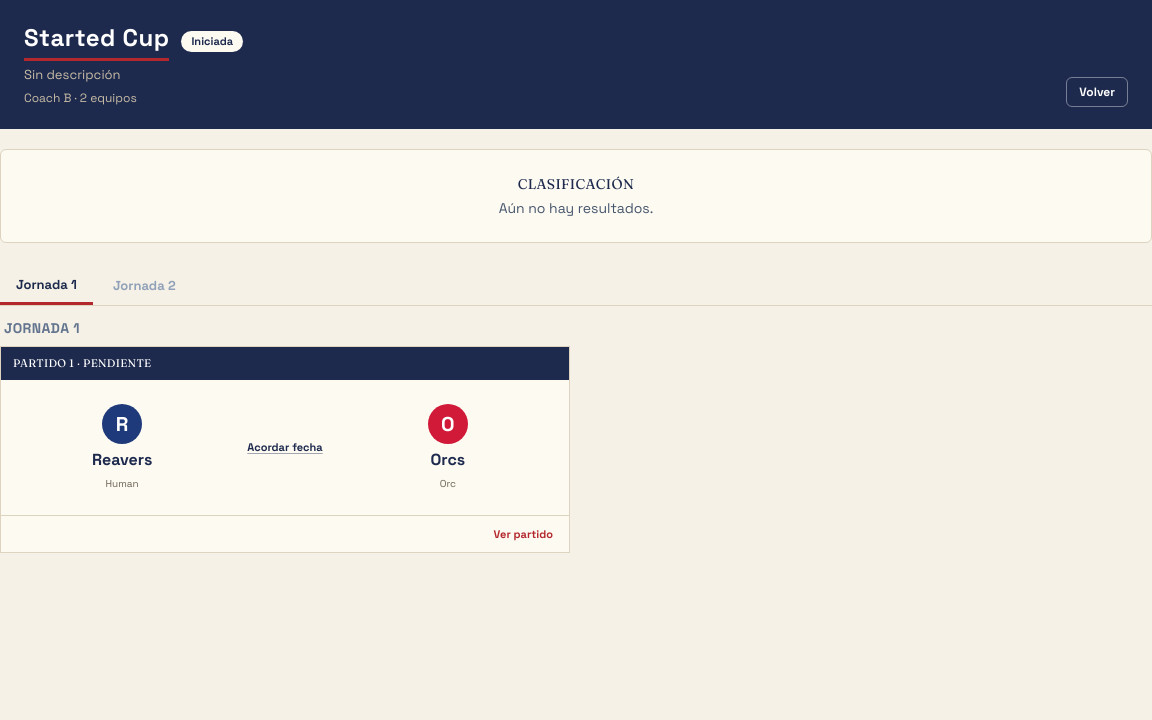
it: LeagueDetail — STARTED league › keeps the negotiation panel open and surfaces the error when proposing fails
Expected: the element named "Jornada 1" is shown, [0,346,570,553]
Click the button "Acordar fecha" at point(285, 447), box [239,435,331,459]
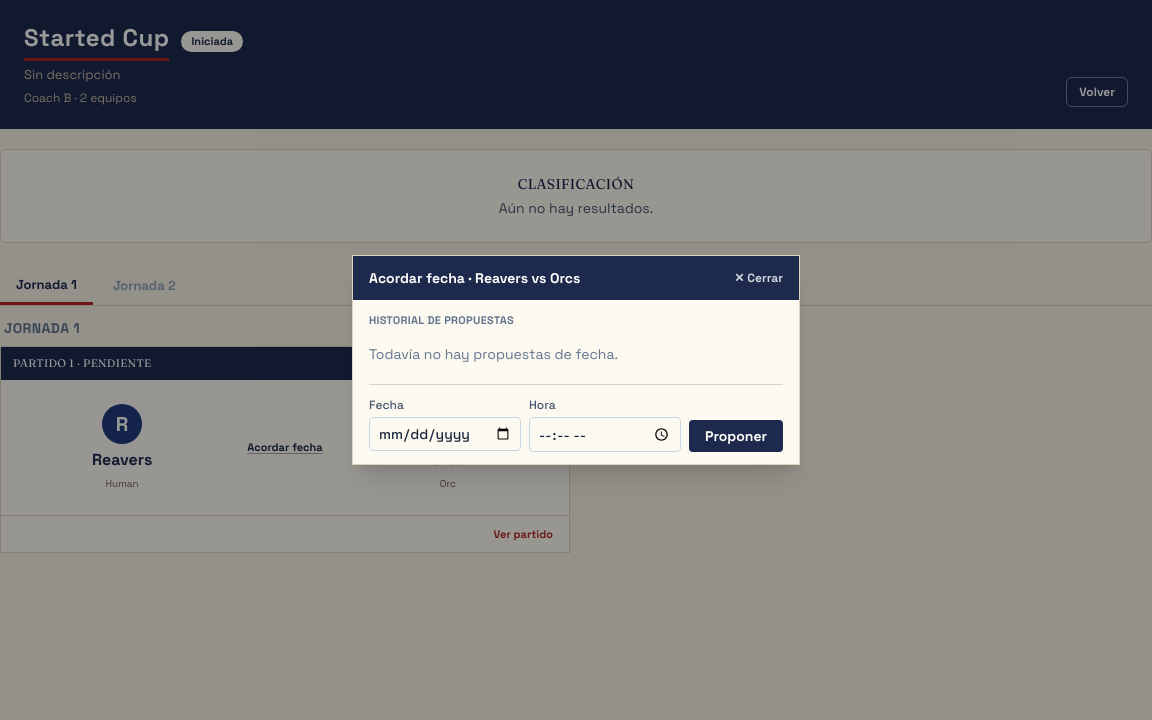
Type "2026-03-05" into the date field named "Fecha propuesta" at point(445, 434), box [369,417,521,451]
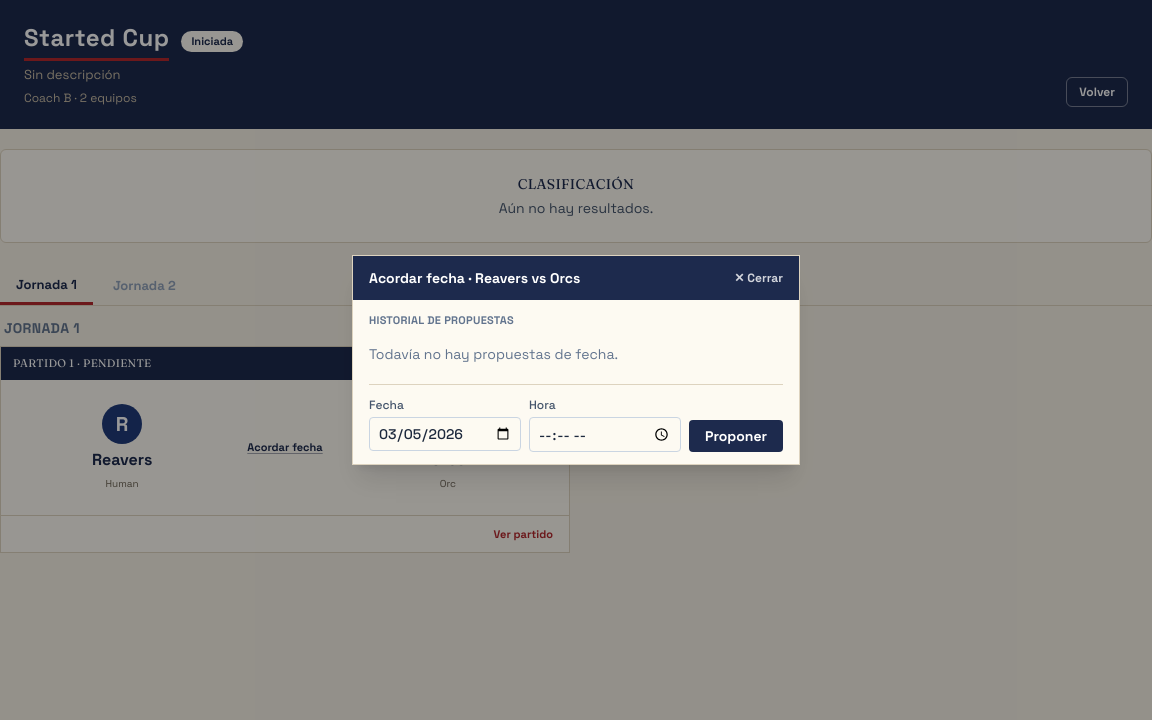
Type "19:00" into the time field named "Hora propuesta" at point(605, 435), box [529,417,681,452]
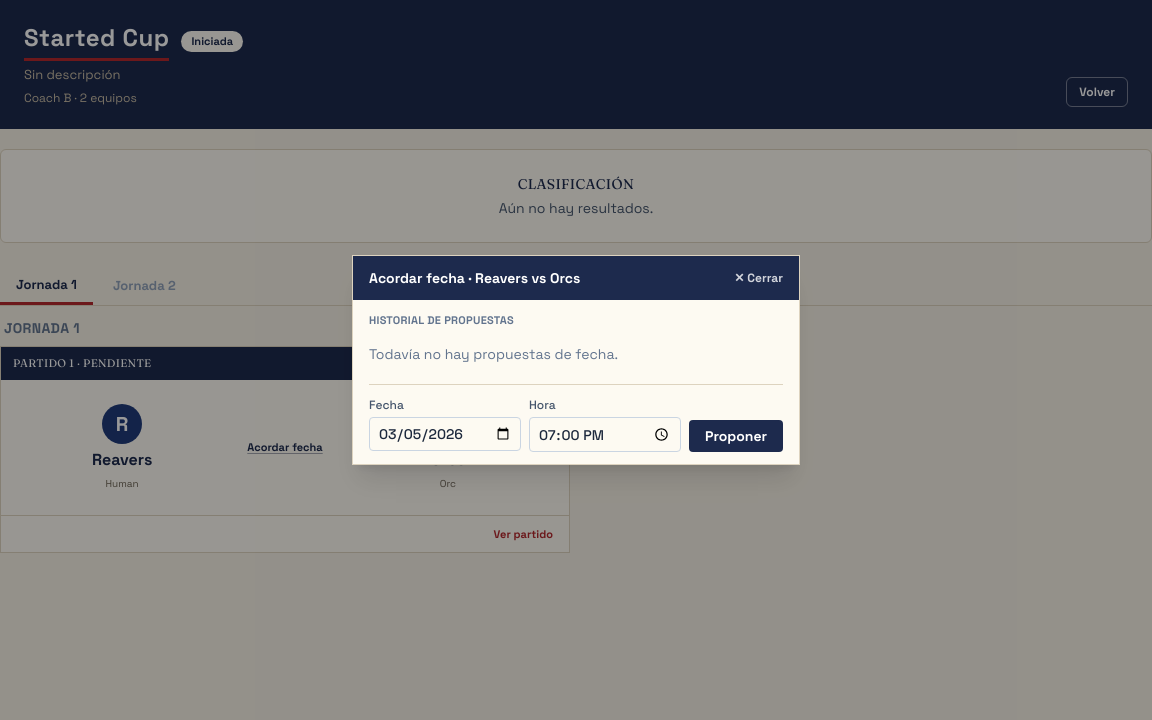
Click the button "Proponer" at point(736, 436), box [689,420,783,452]
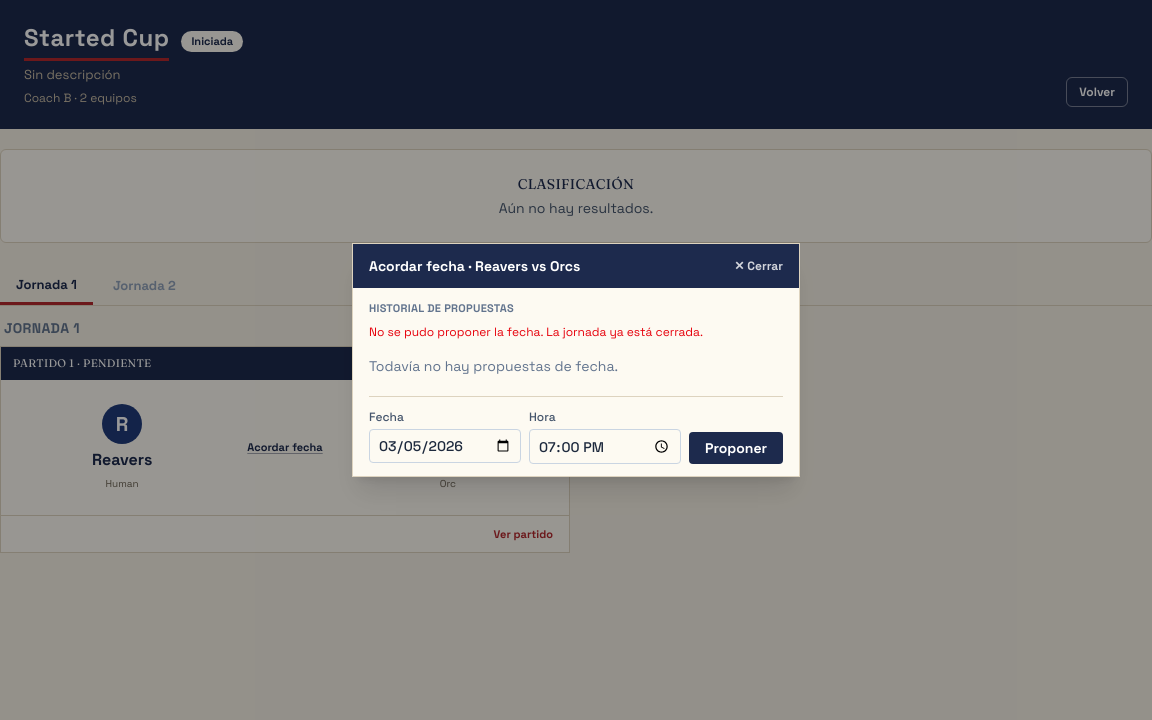
Expected: the dialog "Acordar fecha" is shown
Expected: the message shows "No se pudo proponer la fecha.", [369,324,703,340]
Expected: the message shows "La jornada ya está cerrada.", [369,324,703,340]
